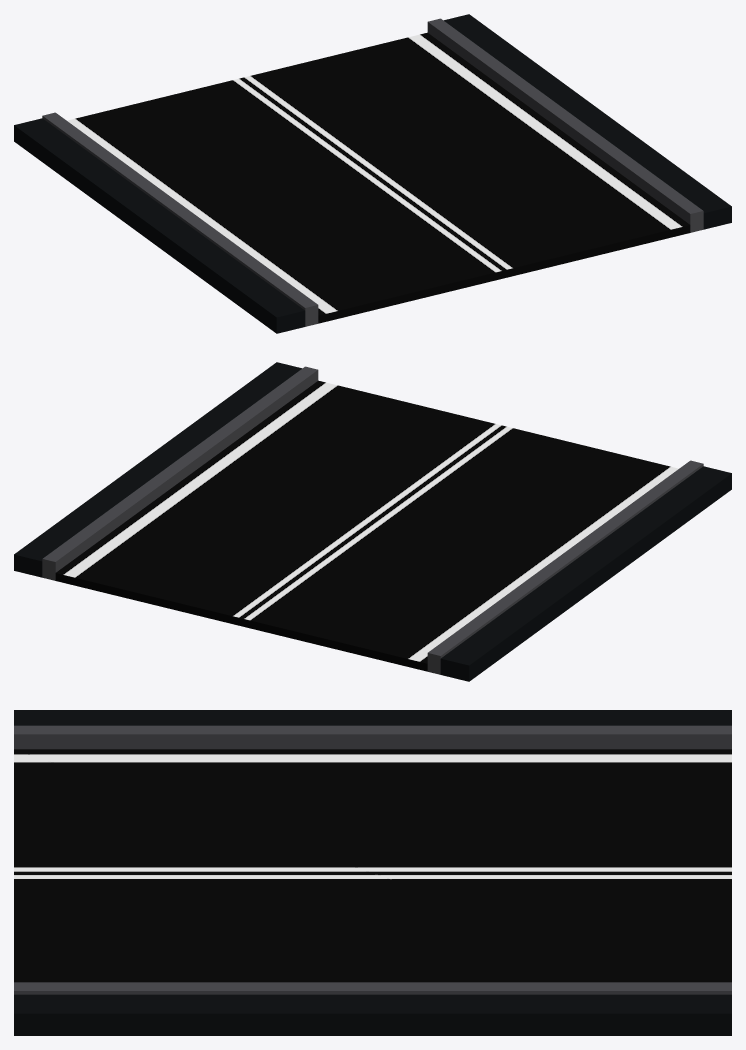
File: Road1.glb
3 views of the same model, one above another, from view 1: azimuth 30°, elevation 25°; view 2: azimuth 150°, elevation 25°; view 3: azimuth 270°, elevation 25° (orthographic). The views are drawn at different scales.
Visible parts, largest first — view 1: Road1; view 2: Road1; view 3: Road1.
Boxes of the visible parts, left/top/right/bottom form: Road1: left=14, top=14, right=731, bottom=333; Road1: left=14, top=362, right=731, bottom=681; Road1: left=14, top=710, right=731, bottom=1035.
Bounding box in the file's own units: 3.66 × 0.1449 × 3.66.
Materials: 1 (1 with a texture image).
